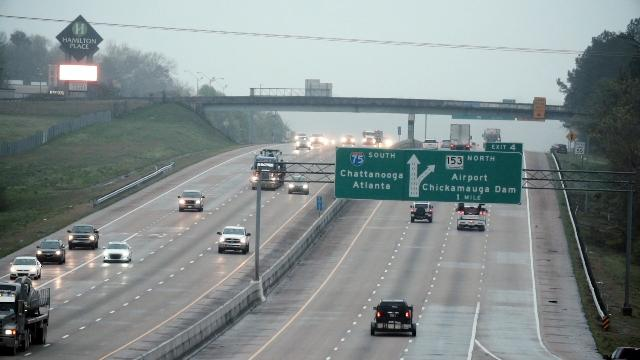car: (215, 225, 251, 255), (67, 225, 99, 251), (36, 239, 66, 266), (12, 258, 44, 280), (104, 243, 134, 265), (180, 190, 204, 215), (287, 171, 310, 197), (294, 136, 312, 150), (421, 139, 438, 149), (312, 133, 325, 146), (341, 135, 357, 144)
pickup-truck: (367, 296, 419, 338), (454, 205, 489, 233), (406, 202, 437, 224)
truck: (0, 281, 64, 356), (253, 147, 285, 190), (450, 123, 471, 149)
